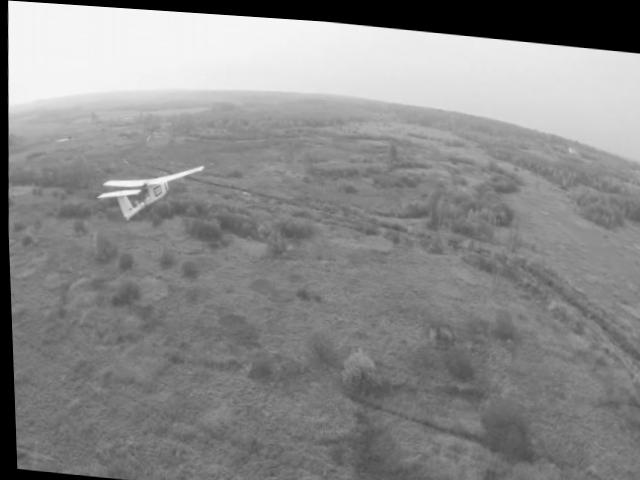hedef: (93, 149, 210, 228)
